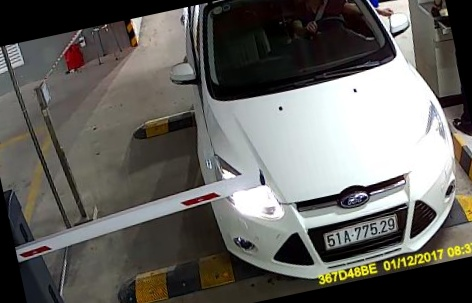plate: (319, 215, 400, 251)
